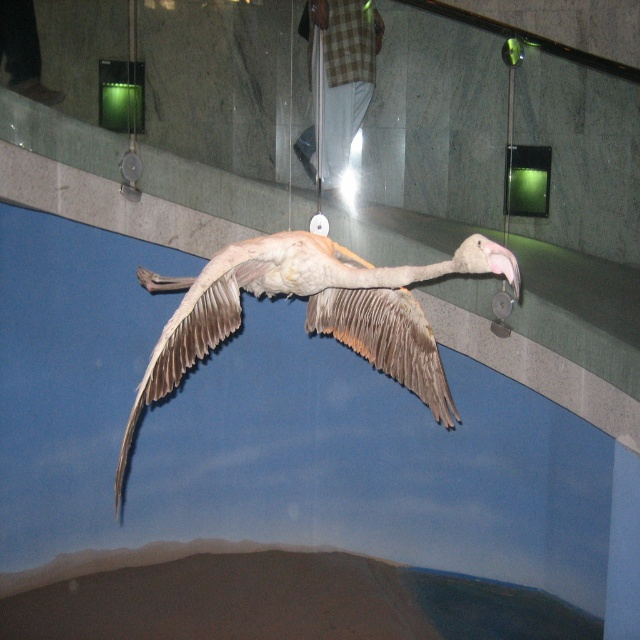Goose: (113, 222, 523, 518)
